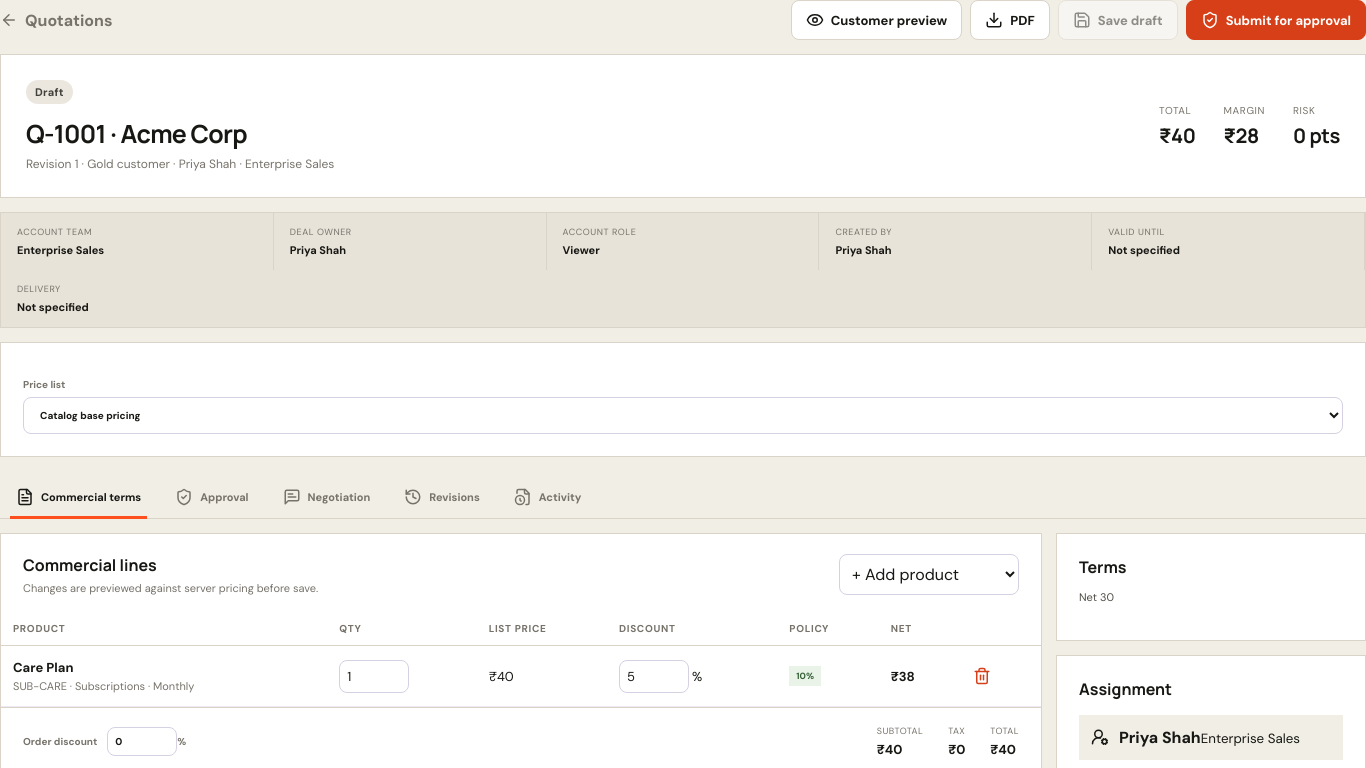
Test case: quotation detail lifecycle › opens a complete customer-safe preview dialog
The image size is (1366, 768).
Click the button "Customer preview": (876, 20) x1=791 y1=0 x2=962 y2=40
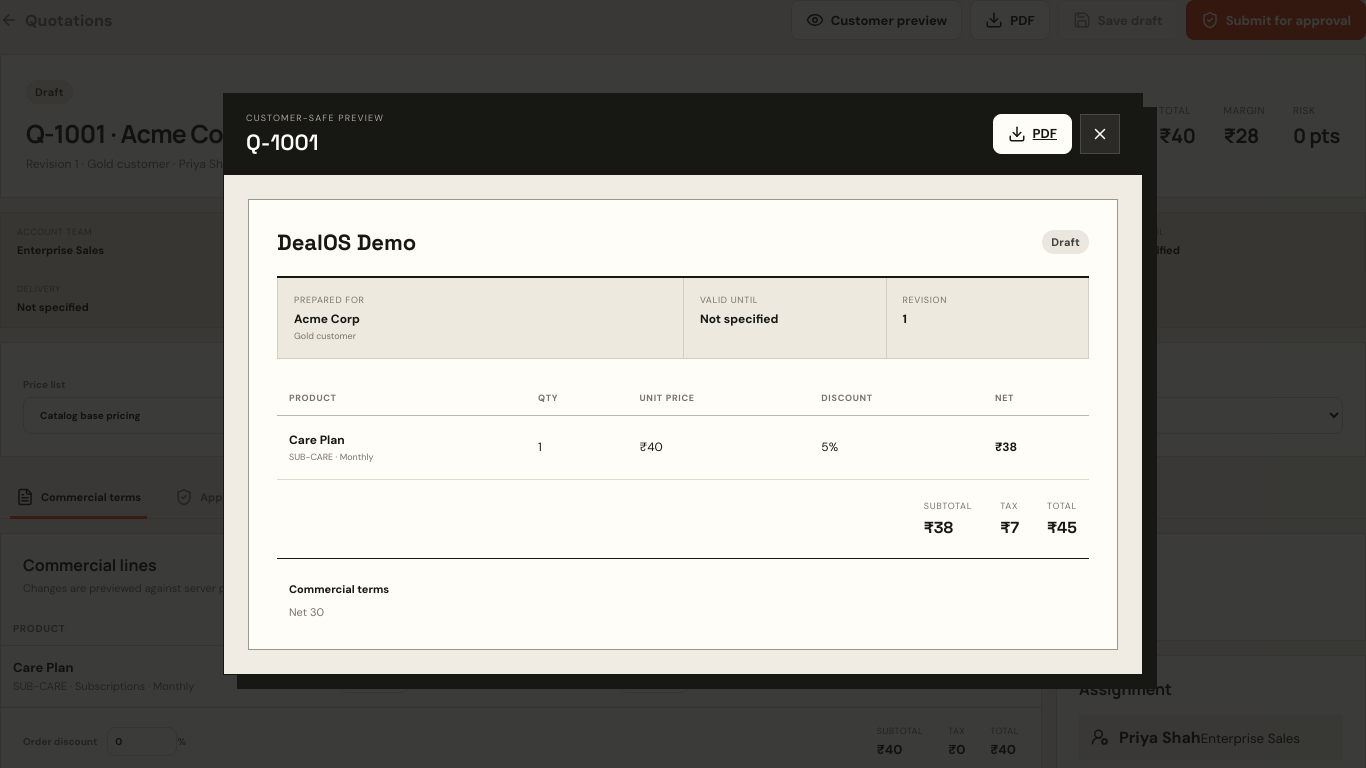
Check: the text "DealOS Demo" is shown, box x1=277 y1=228 x2=416 y2=256
Check: the text "Acme Corp" is shown, box x1=294 y1=311 x2=360 y2=327
Check: the text "Care Plan" is shown, box x1=289 y1=432 x2=345 y2=448
